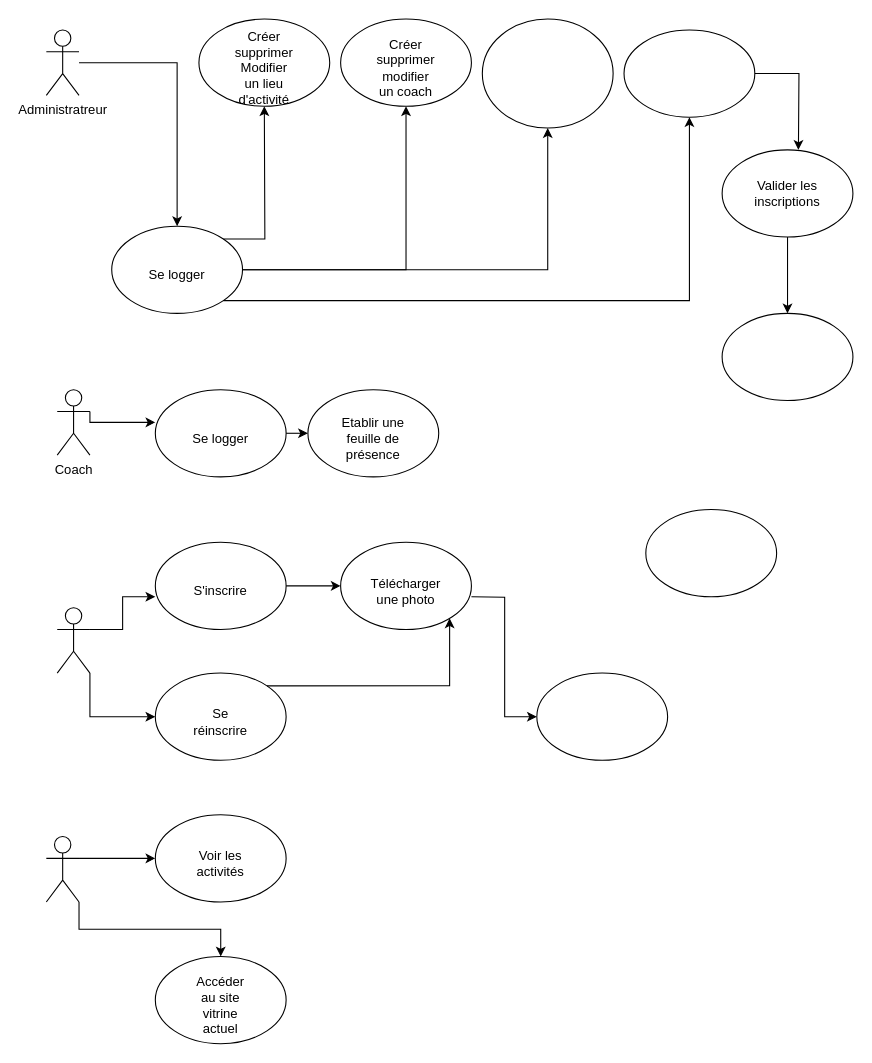
This 872x1063 diagram has some shape labels left out. The centre of each missing label's shape, as x and y in pixels:
Adhérent: the point at 73,640
Créer supprimer modifier un adhérent: the point at 711,552
Créer, Modifier Supprimer un compte adhérent: the point at 689,73
Créer, Modifier, Supprimer une activité sportive: the point at 547,73
Envoyer la carte de membre: the point at 787,356
Payer en ligne sa cotisation: the point at 602,716
Visiteur: the point at 62,868
